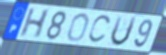8: (44, 10, 68, 41)
9: (133, 19, 153, 49)
C: (86, 14, 113, 45)
H: (18, 8, 52, 40)
O: (66, 12, 90, 43)
U: (110, 15, 138, 48)
